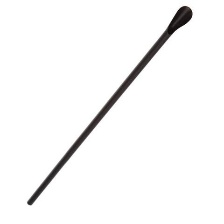drinking_straw: (21, 2, 199, 210)
